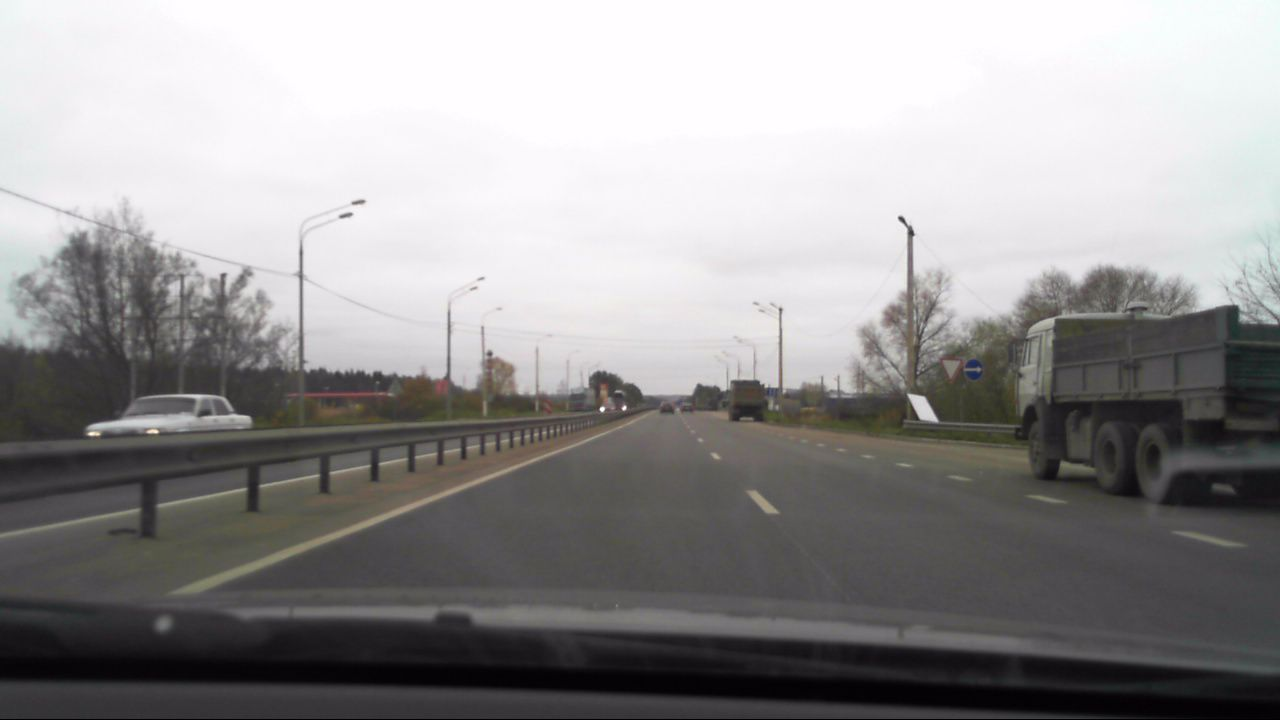Turn Right: (964, 359, 984, 380)
